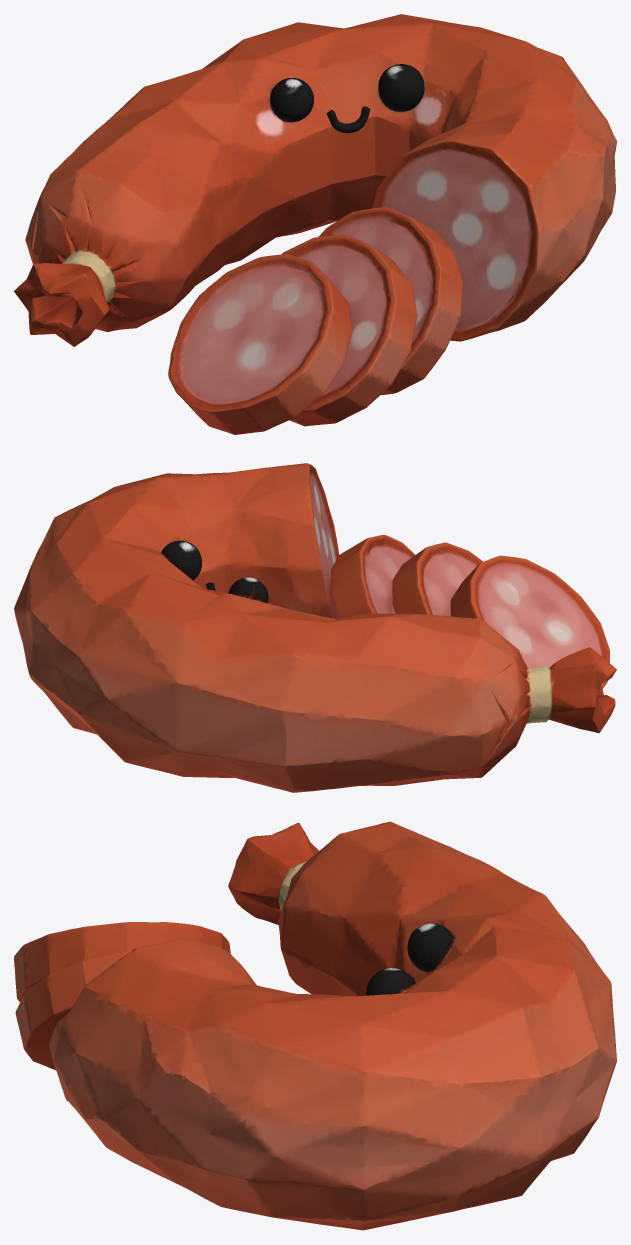
File: tripo_convert_db24b493-bba6-4363-81a6-5cea308e611d.fbx
3 renders of one model, top to bottom at view 1: azimuth 30°, elevation 25°; view 2: azimuth 150°, elevation 25°; view 3: azimuth 270°, elevation 25°, orthographic. The views are drawn at different scales.
Visible parts, largest first — view 1: tripo_node_db24b493; view 2: tripo_node_db24b493; view 3: tripo_node_db24b493.
Boxes of the visible parts, x1,y1,x2,y2 form: tripo_node_db24b493: (14, 14, 616, 434); tripo_node_db24b493: (14, 463, 616, 792); tripo_node_db24b493: (14, 821, 616, 1230).
Bounding box in the file's own units: 1 × 0.3529 × 0.7969.
Materials: 1 (1 with a texture image).
